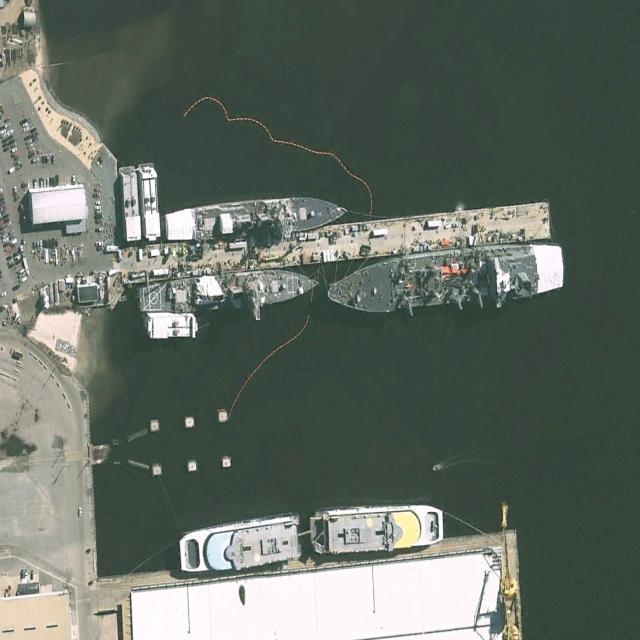Commander: (325, 237, 566, 324)
Destroyer: (137, 261, 321, 333), (164, 190, 348, 243)
Other Ship: (177, 510, 305, 578), (311, 500, 444, 554)
